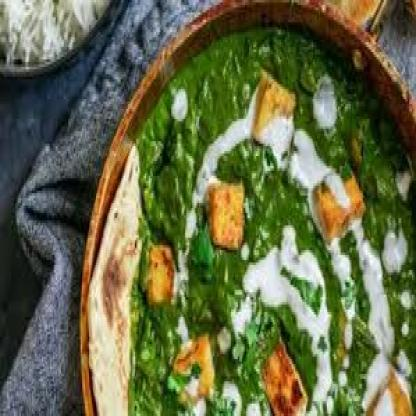palak_paneer: (127, 26, 416, 416)
